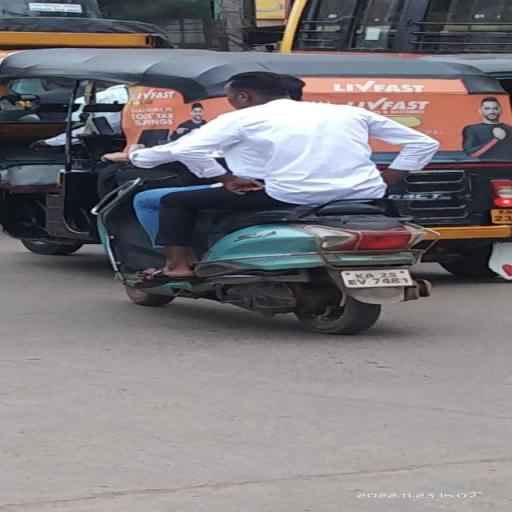bike: (90, 64, 444, 339)
numberplate: (342, 267, 413, 289)
withouthelmet: (225, 72, 304, 106)
